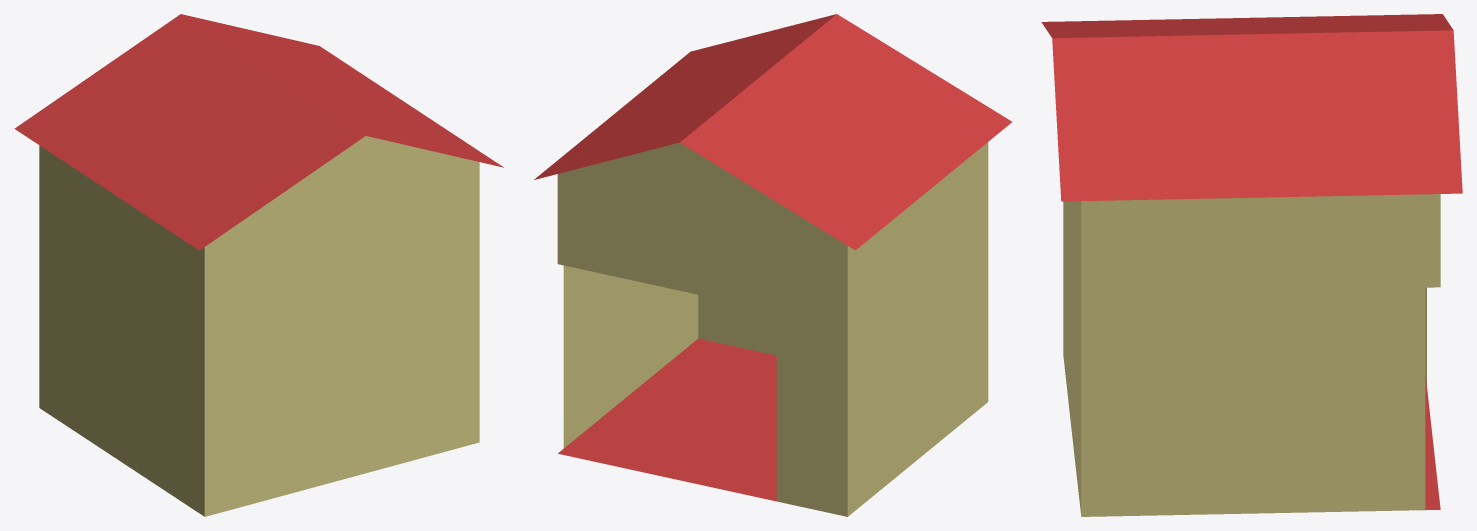
3 renders of one model, left to right at view 1: azimuth 30°, elevation 25°; view 2: azimuth 150°, elevation 25°; view 3: azimuth 270°, elevation 25°, orthographic. The views are drawn at different scales.
Size of the model in its own units: 10.52 by 9.99 by 10.63.
